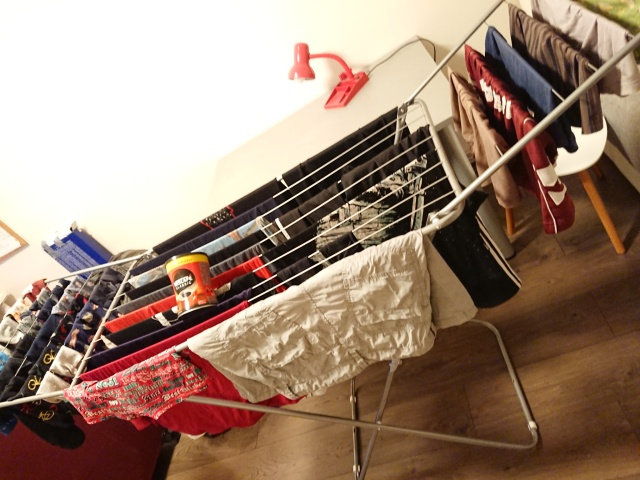Nescafe Classic 225g: (161, 250, 221, 322)
